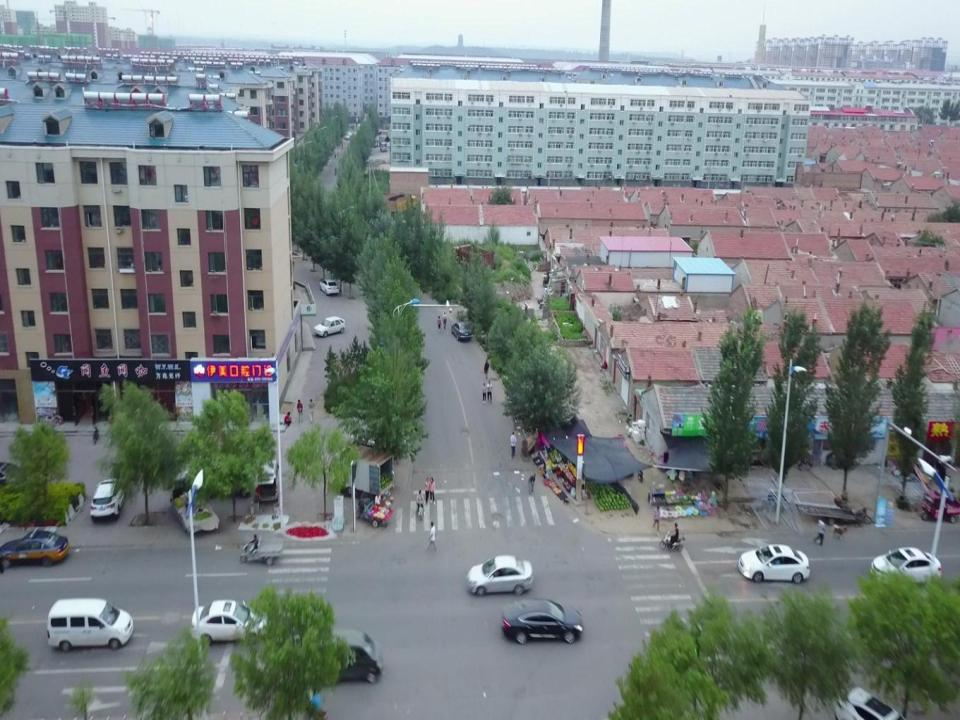car: (304, 631, 384, 683), (501, 596, 583, 644), (188, 598, 270, 644), (870, 546, 942, 588), (0, 526, 69, 569), (738, 543, 810, 584), (464, 554, 532, 597), (829, 685, 903, 717), (89, 476, 128, 520), (312, 317, 345, 338), (450, 321, 472, 342), (318, 280, 339, 296)
truck: (326, 442, 394, 501), (451, 243, 494, 275), (385, 193, 417, 219)
van: (46, 598, 133, 653), (255, 458, 280, 502)
